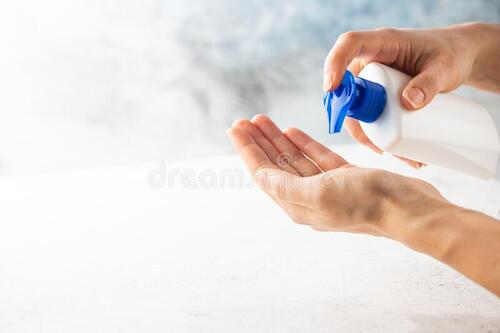sanitizer: (323, 61, 500, 171)
